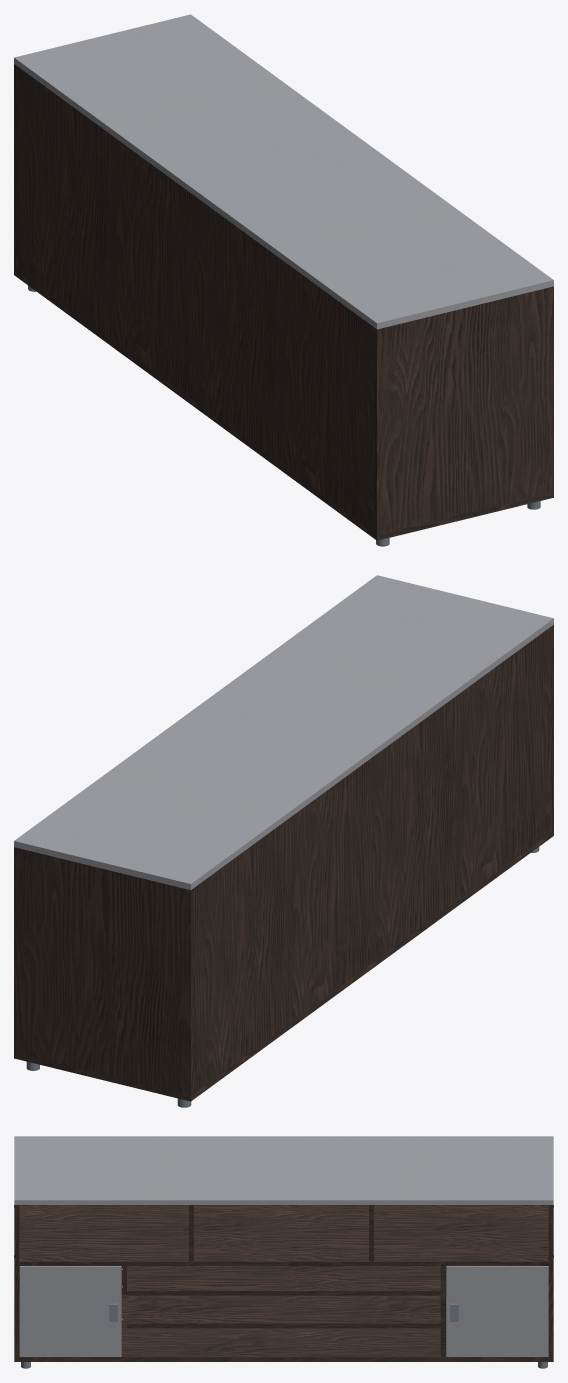
Rendered from tv_shelf.glb.
3 views of the same model, one above another, from view 1: azimuth 30°, elevation 25°; view 2: azimuth 150°, elevation 25°; view 3: azimuth 270°, elevation 25° (orthographic). The views are drawn at different scales.
Visible parts, largest first — view 1: Cube.003_4, Cube_1, Cube.001_2, Cube.004_5, Cube.002_3; view 2: Cube.003_4, Cube_1, Cube.002_3, Cube.004_5, Cube.001_2; view 3: Cube_1, Cube.005_6, Cube.004_5, Cube.011_12, Cube.010_11, Cube.028_29, Cube.029_30, Cube.001_2, Cube.002_3, Cube.009_10.
Boxes of the visible parts, <box> form: Cube.003_4: <box>17,66,373,532</box>; Cube_1: <box>14,14,553,329</box>; Cube.001_2: <box>373,286,553,534</box>; Cube.004_5: <box>14,269,553,540</box>; Cube.002_3: <box>14,64,17,271</box>; Cube.003_4: <box>194,627,550,1092</box>; Cube_1: <box>14,575,553,890</box>; Cube.002_3: <box>14,847,194,1095</box>; Cube.004_5: <box>14,830,553,1101</box>; Cube.001_2: <box>550,625,553,832</box>; Cube_1: <box>14,1136,553,1204</box>; Cube.005_6: <box>19,1205,548,1265</box>; Cube.004_5: <box>14,1295,553,1361</box>; Cube.011_12: <box>127,1295,440,1328</box>; Cube.010_11: <box>127,1266,440,1295</box>; Cube.028_29: <box>446,1266,548,1356</box>; Cube.029_30: <box>19,1266,121,1356</box>; Cube.001_2: <box>14,1205,19,1357</box>; Cube.002_3: <box>548,1205,553,1357</box>; Cube.009_10: <box>440,1266,445,1356</box>.
Bounding box in the file's own units: 0.4619 × 0.5578 × 1.6.
Materials: 4 (3 with a texture image).
